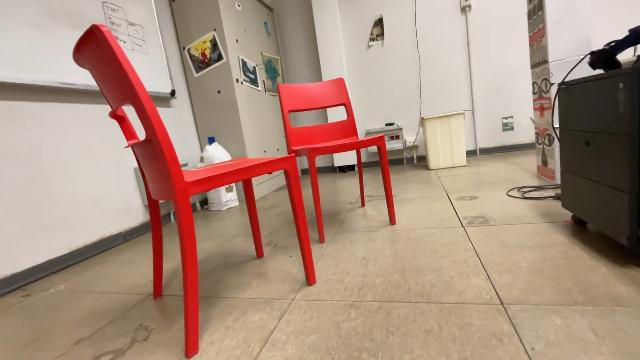Chair: (68, 20, 322, 360), (276, 74, 402, 248)
